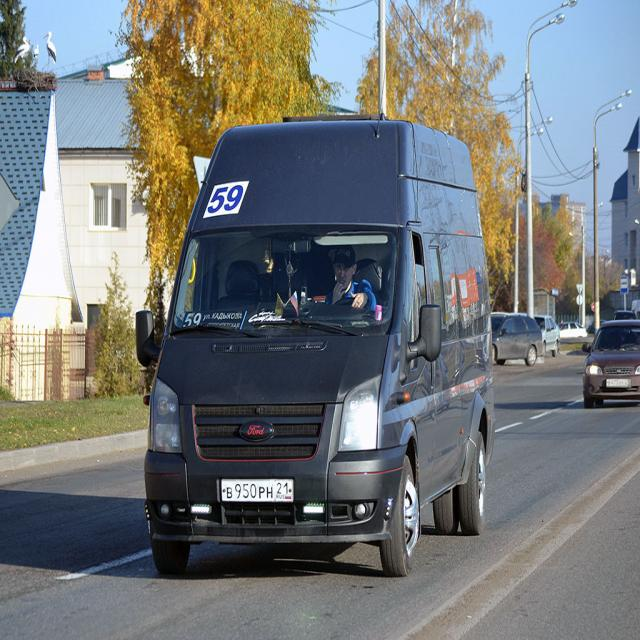number-of-bus: (206, 184, 251, 225)
